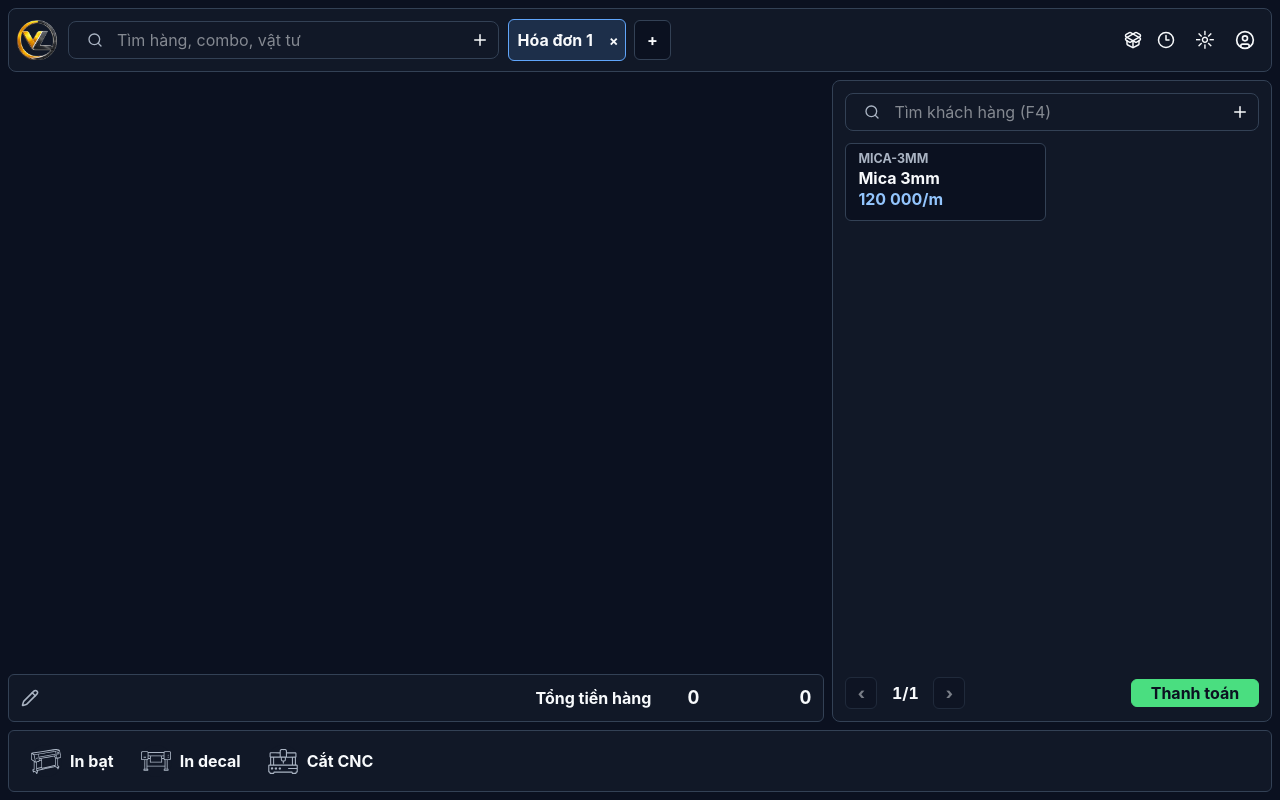
Test: uses the K01 F3 product search as an enabled product picker
Expected: the field named "Tìm hàng (F3)" is enabled, [69, 22, 498, 58]
Press F3
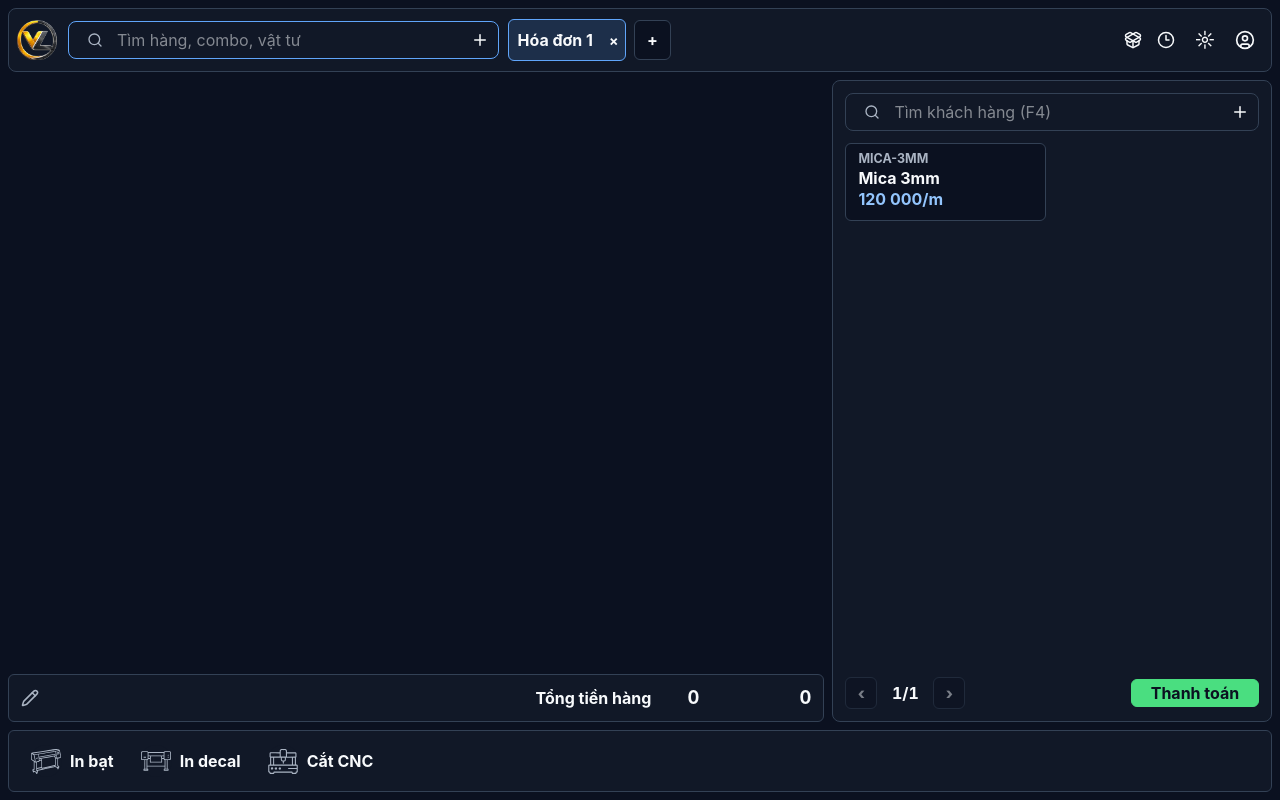
Type "mica" into the field named "Tìm hàng (F3)" at (284, 40), box [69, 22, 498, 58]
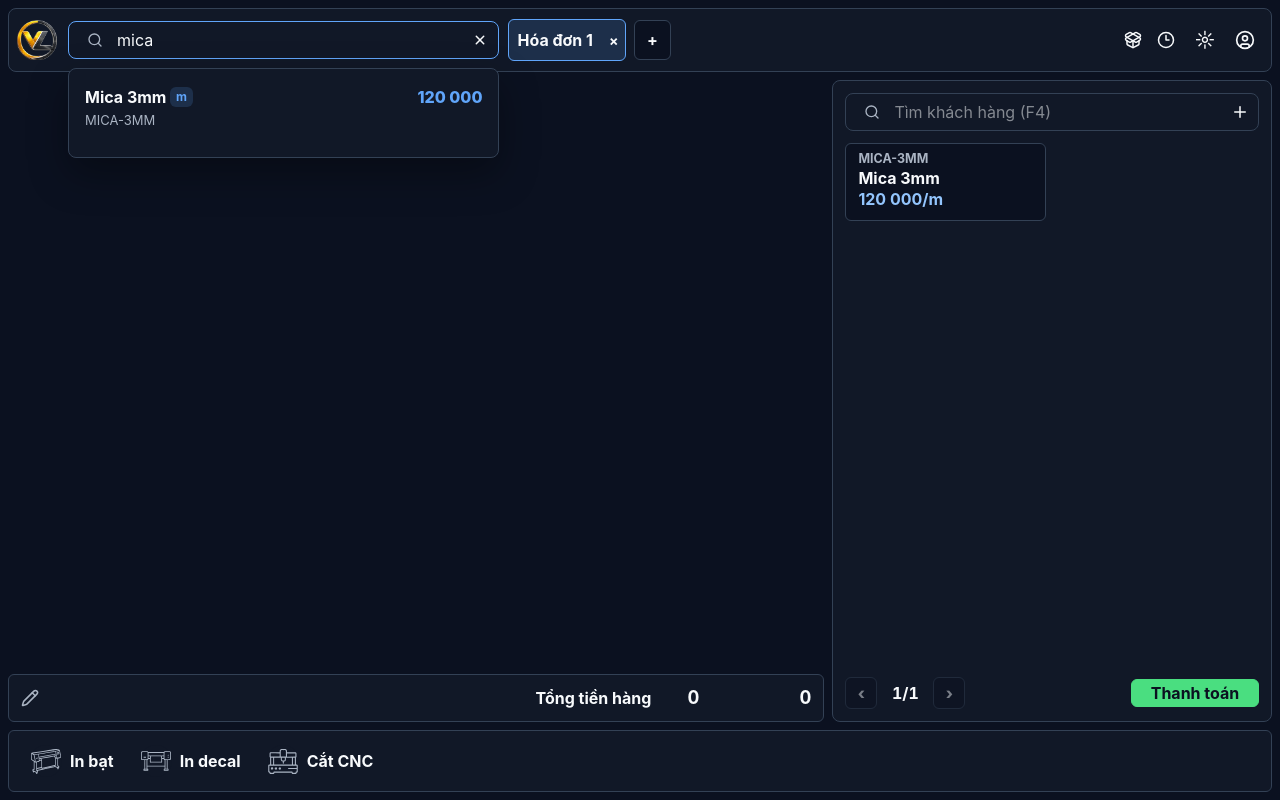
Click the option with aria-label "Chọn MICA-3MM Mica 3mm" at (126, 97), box [77, 77, 490, 149]
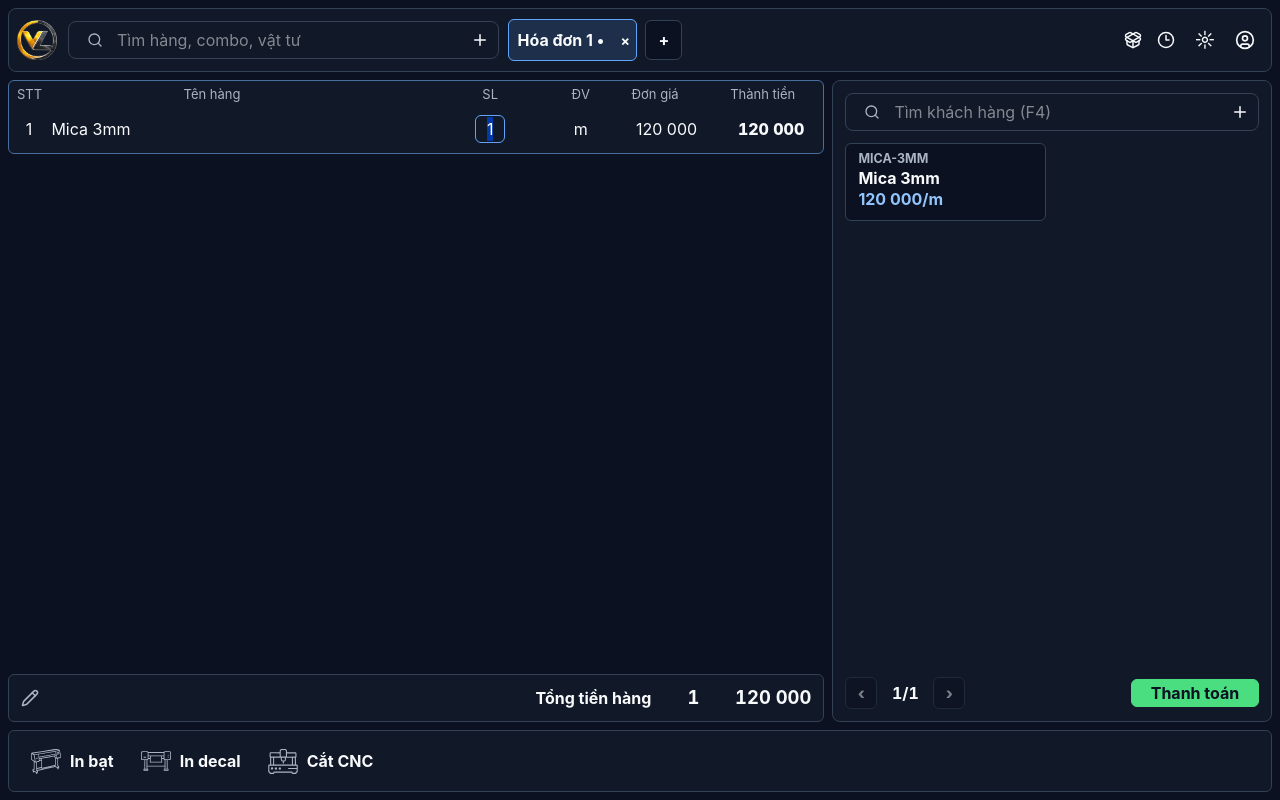
Now the text "Mica 3mm" below "STT" is shown, box [51, 118, 130, 138]
Now the text "120 000" below "SL" is shown, box [738, 118, 804, 138]
